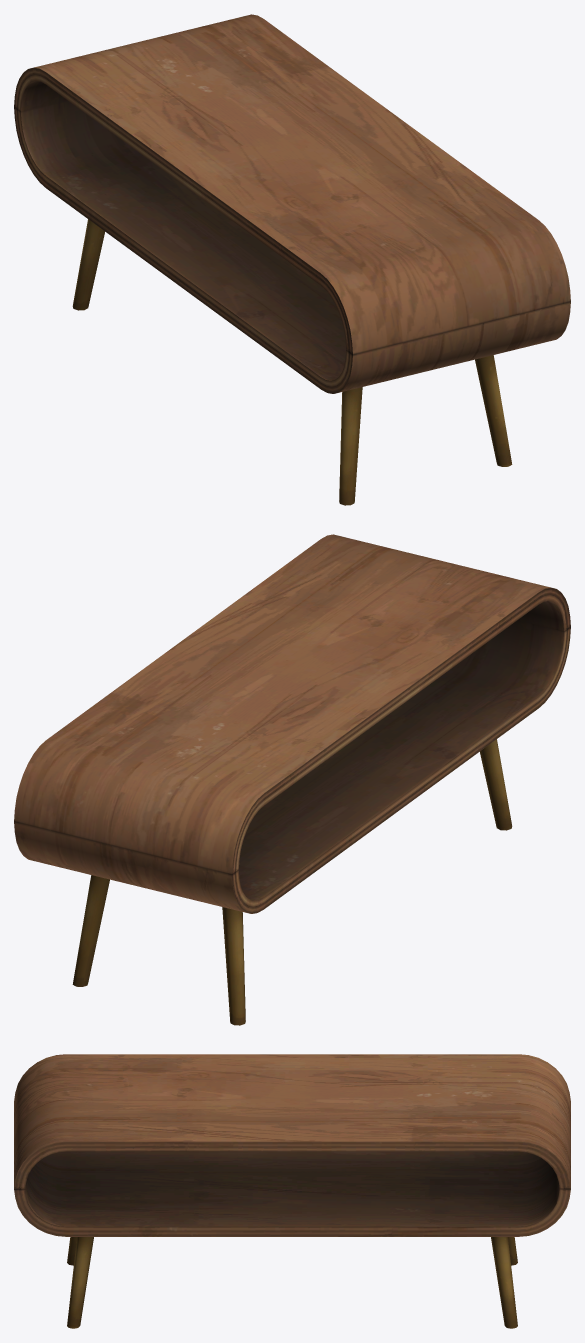
The model's file is hooptable01.glb.
3 views of the same model, one above another, from view 1: azimuth 30°, elevation 25°; view 2: azimuth 150°, elevation 25°; view 3: azimuth 270°, elevation 25° (orthographic). The views are drawn at different scales.
Visible parts, largest first — view 1: hooptable01; view 2: hooptable01; view 3: hooptable01.
Boxes of the visible parts, x1,y1,x2,y2 form: hooptable01: [14, 14, 570, 505]; hooptable01: [14, 534, 570, 1025]; hooptable01: [14, 1054, 570, 1328].
Size of the model in its own units: 0.7624 by 0.7999 by 2.05.
1 material, 1 textured.
